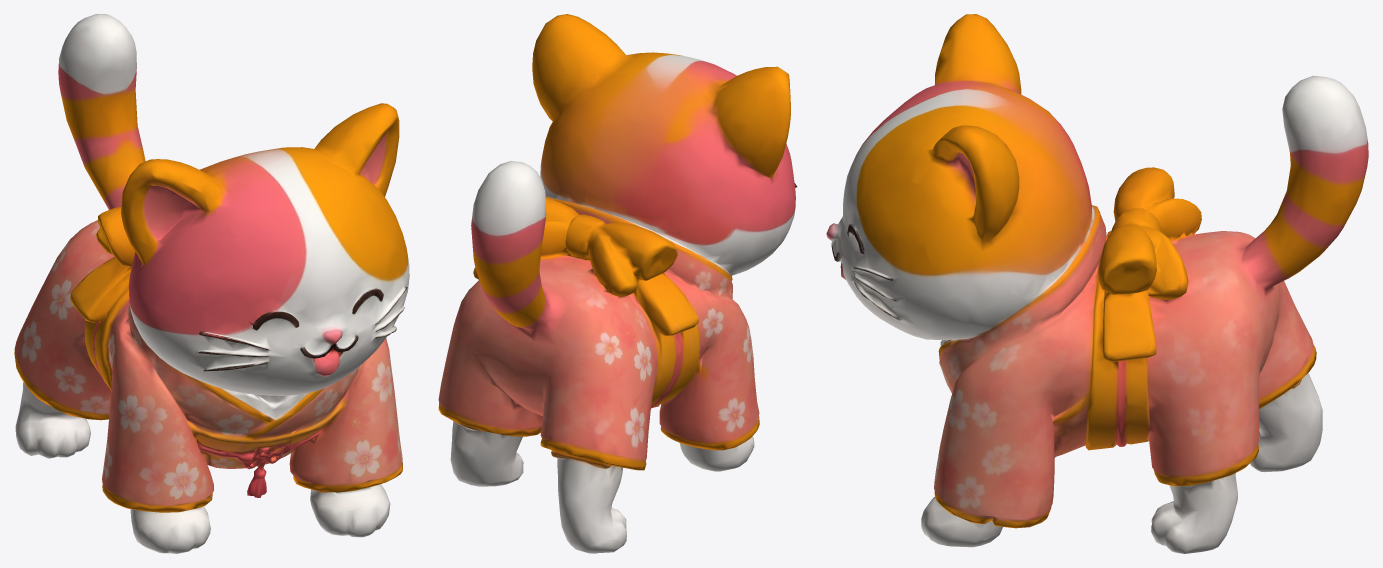
Rendered from nyanisyarud-kimono-cat.glb.
The picture shows the model from 3 angles, left to right: view 1: azimuth 30°, elevation 25°; view 2: azimuth 150°, elevation 25°; view 3: azimuth 270°, elevation 25°; orthographic projection. The views are drawn at different scales.
Visible parts, largest first — view 1: tripo_node_88771f92-7d91-4320-aa51-53f33590ff7a; view 2: tripo_node_88771f92-7d91-4320-aa51-53f33590ff7a; view 3: tripo_node_88771f92-7d91-4320-aa51-53f33590ff7a.
Part boxes in pixels (x1,y1,x2,y2): tripo_node_88771f92-7d91-4320-aa51-53f33590ff7a: [14, 14, 409, 553]; tripo_node_88771f92-7d91-4320-aa51-53f33590ff7a: [438, 14, 797, 553]; tripo_node_88771f92-7d91-4320-aa51-53f33590ff7a: [826, 14, 1368, 553].
Bounding box in the file's own units: 0.6196 × 0.8675 × 1.
1 material, 1 textured.
